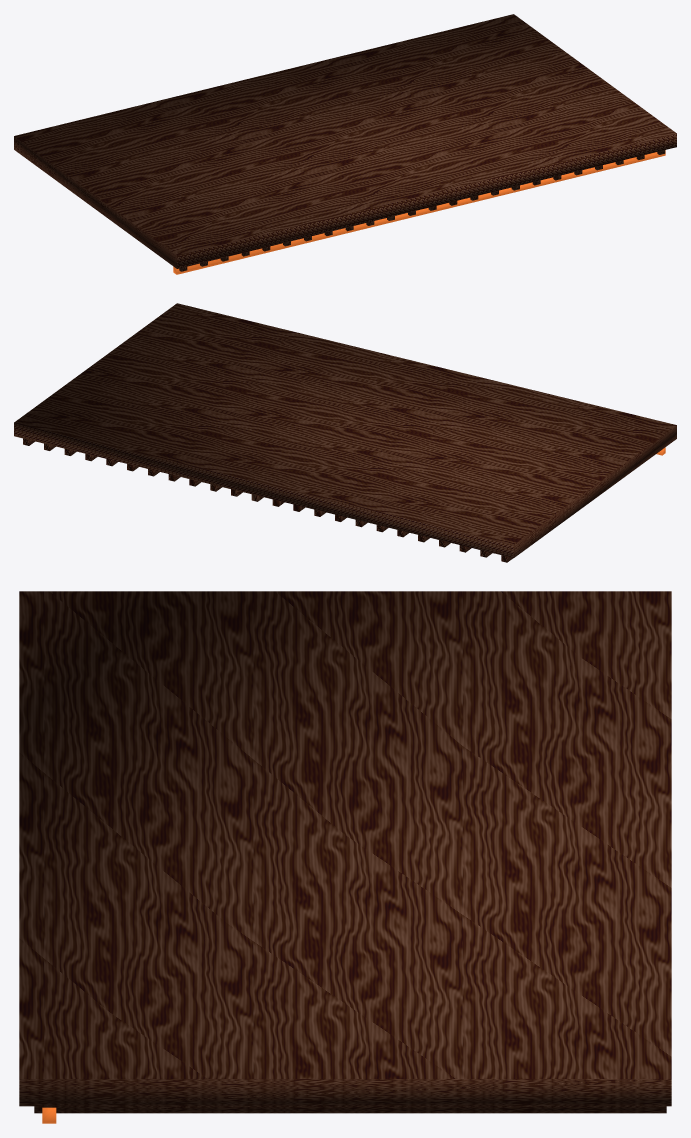
File: RECEPTION_BACKWALL_WOOD_SLAT_HERO_001.glb
3 renders of one model, top to bottom at view 1: azimuth 30°, elevation 25°; view 2: azimuth 150°, elevation 25°; view 3: azimuth 270°, elevation 25°, orthographic. The views are drawn at different scales.
Visible parts, largest first — view 1: base_wall_000, top_grazing_light_025; view 2: base_wall_000; view 3: base_wall_000, vertical_slat_024.
Boxes of the visible parts, bbox=[...] form: base_wall_000: bbox=[14, 14, 676, 268]; top_grazing_light_025: bbox=[173, 150, 665, 274]; base_wall_000: bbox=[14, 303, 676, 557]; base_wall_000: bbox=[19, 591, 671, 1106]; vertical_slat_024: bbox=[34, 1106, 666, 1113].
Size of the model in its own units: 4.6 by 0.22 by 2.6.
Materials: 4 (4 with a texture image).
